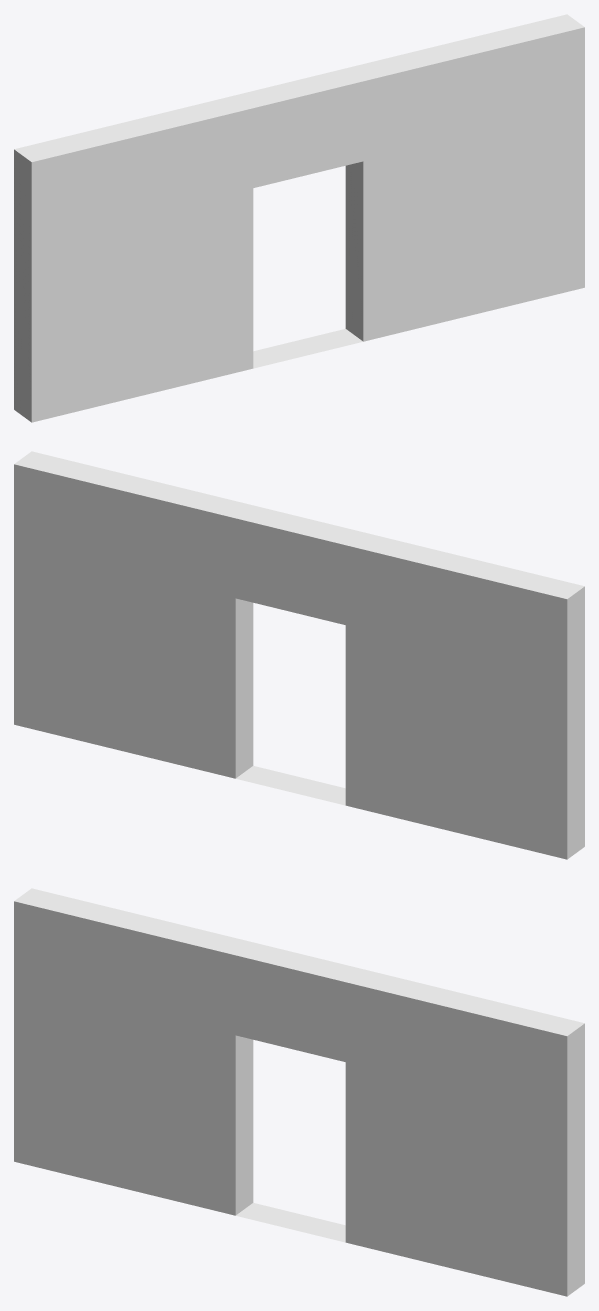
The model's file is wall_hole.fbx.
3 views of the same model, one above another, from view 1: azimuth 30°, elevation 25°; view 2: azimuth 150°, elevation 25°; view 3: azimuth 330°, elevation 25° (orthographic).
Visible parts, largest first — view 1: wall_hole; view 2: wall_hole; view 3: wall_hole.
Part boxes in pixels (x1,y1,x2,y2): wall_hole: [14, 14, 584, 422]; wall_hole: [14, 451, 584, 859]; wall_hole: [14, 888, 584, 1296].
Size of the model in its own units: 900 by 405 by 50.
